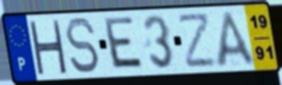3: (141, 13, 177, 72)
A: (215, 9, 260, 70)
E: (103, 15, 146, 71)
H: (27, 19, 69, 75)
S: (63, 16, 102, 76)
Z: (176, 11, 219, 70)
